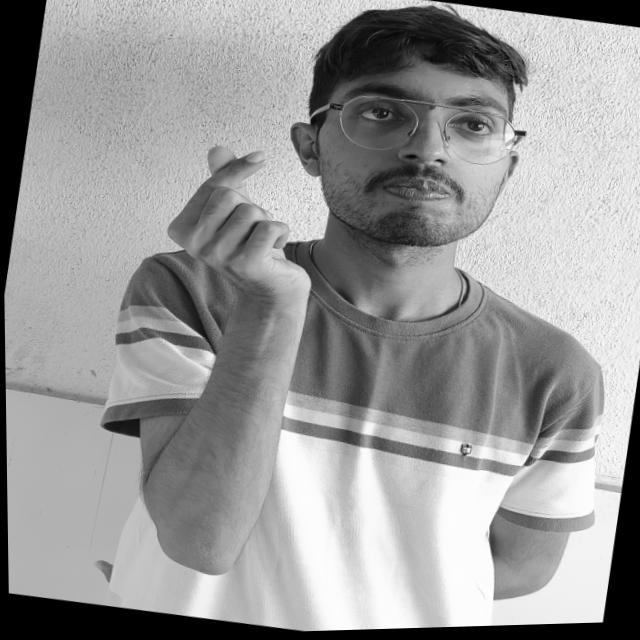Grattitude: (131, 122, 373, 342)
